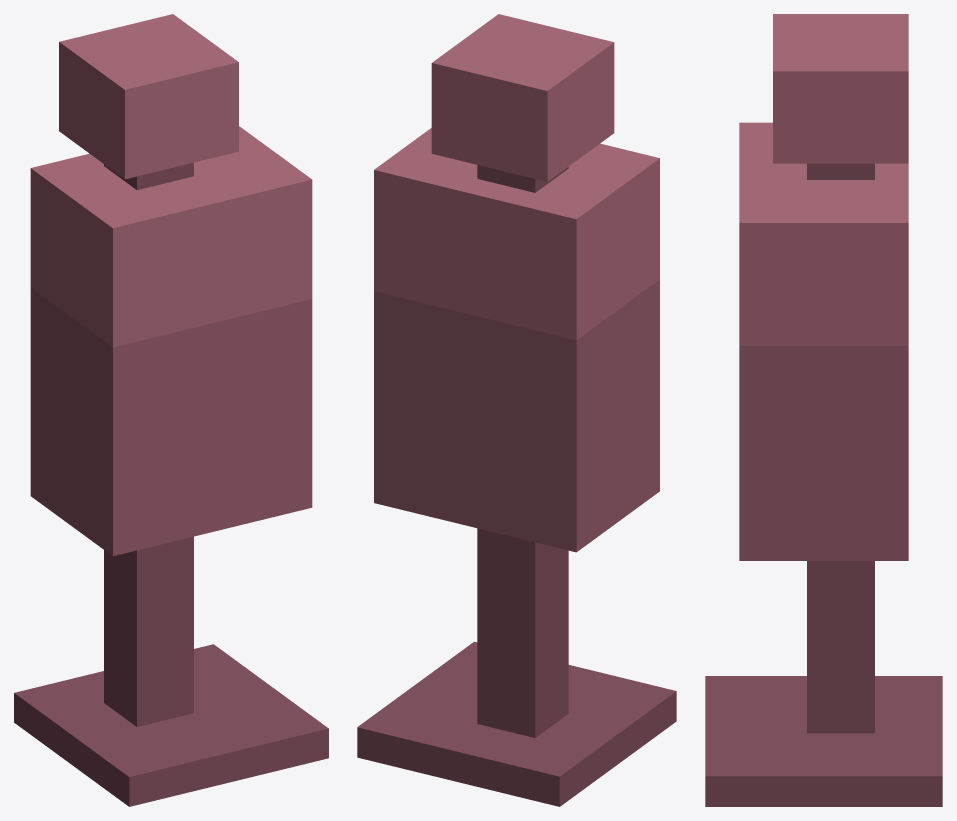
Rendered from maniqui_armadura_noble_01.glb.
The picture shows the model from 3 angles, left to right: view 1: azimuth 30°, elevation 25°; view 2: azimuth 150°, elevation 25°; view 3: azimuth 270°, elevation 25°; orthographic projection. The views are drawn at different scales.
Visible parts, largest first — view 1: maniqui_armadura_noble; view 2: maniqui_armadura_noble; view 3: maniqui_armadura_noble.
Boxes of the visible parts, x1=… form: maniqui_armadura_noble: x1=14, y1=14, x2=328, y2=806; maniqui_armadura_noble: x1=357, y1=14, x2=676, y2=806; maniqui_armadura_noble: x1=705, y1=14, x2=942, y2=806.
Bounding box in the file's own units: 0.4667 × 1.53 × 0.4667.
